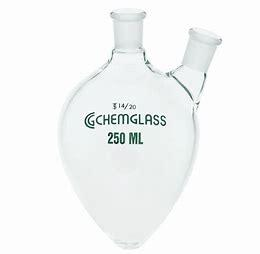Pear shaped flask: (49, 9, 234, 252)
